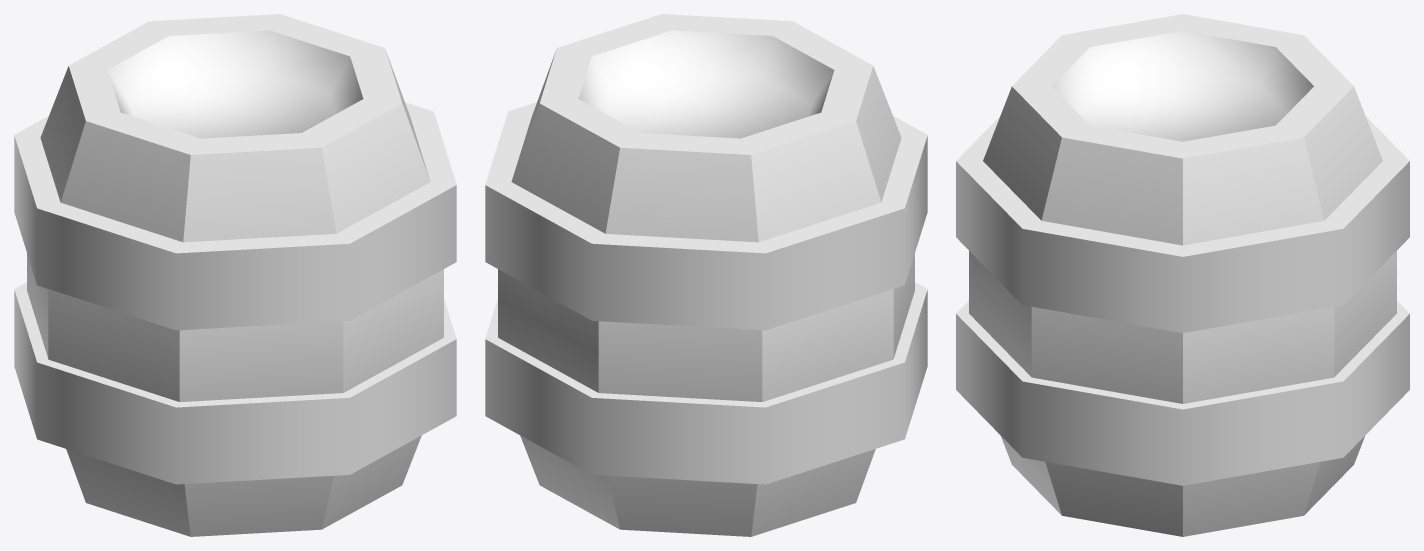
Rendered from barrel.glb.
3 renders of one model, left to right at view 1: azimuth 30°, elevation 25°; view 2: azimuth 150°, elevation 25°; view 3: azimuth 270°, elevation 25°, orthographic.
Parts seen in each view (by area): view 1: barrel; view 2: barrel; view 3: barrel.
Part boxes in pixels (x1,y1,x2,y2): barrel: (14, 14, 456, 536); barrel: (485, 14, 927, 536); barrel: (956, 14, 1409, 536).
Size of the model in its own units: 1.34 by 1.23 by 1.34.
1 material, 1 textured.
